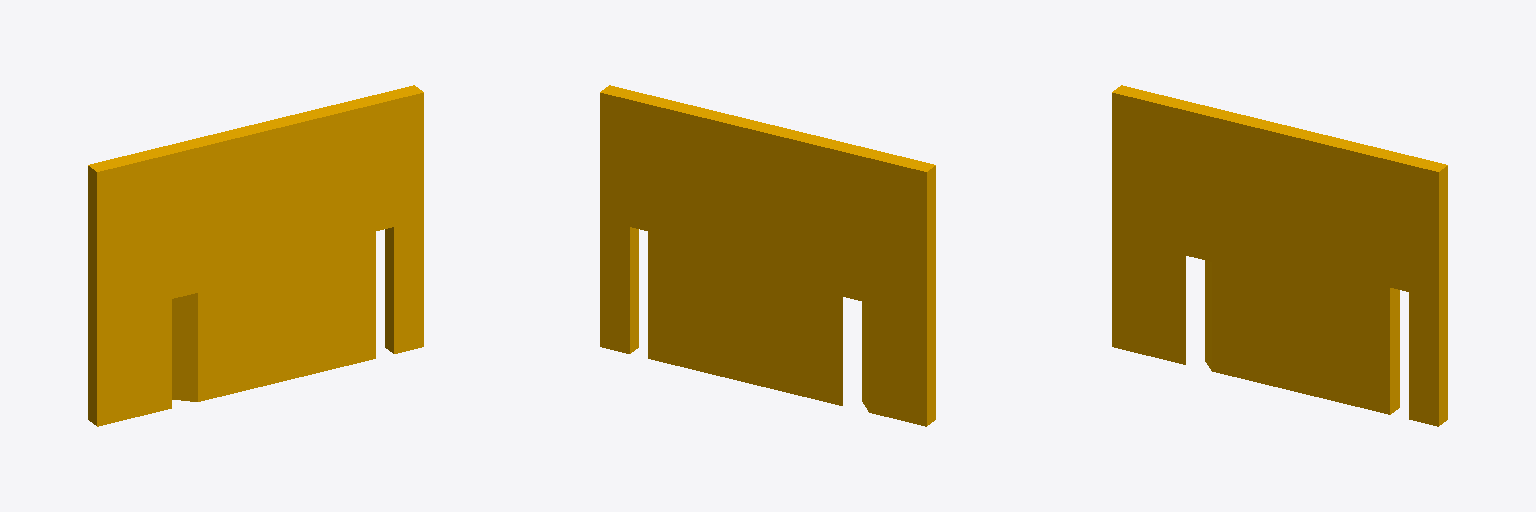
3 renders of one model, left to right at view 1: azimuth 30°, elevation 25°; view 2: azimuth 150°, elevation 25°; view 3: azimuth 330°, elevation 25°, orthographic.
Visible parts, largest first — view 1: yellow_part; view 2: yellow_part; view 3: yellow_part.
Boxes of the visible parts, box(x1,y1,x2,y2) form: yellow_part: box(88, 85, 423, 426); yellow_part: box(600, 85, 935, 426); yellow_part: box(1112, 85, 1447, 426).
Bounding box in the file's own units: 0.125 × 0.093 × 0.0065.
1 materials, 1 textured.